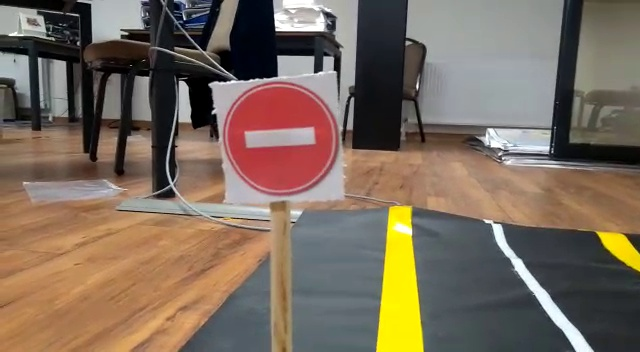girisi_olmayan_yol: (219, 75, 344, 200)
